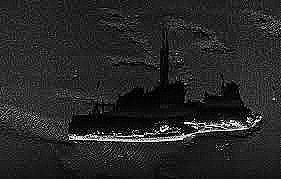ship: (60, 110, 266, 146)
